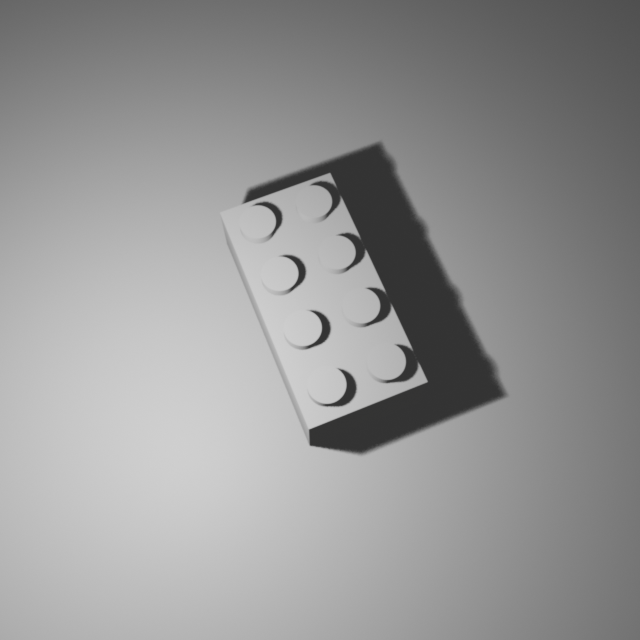lego_2x4: (219, 167, 429, 446)
